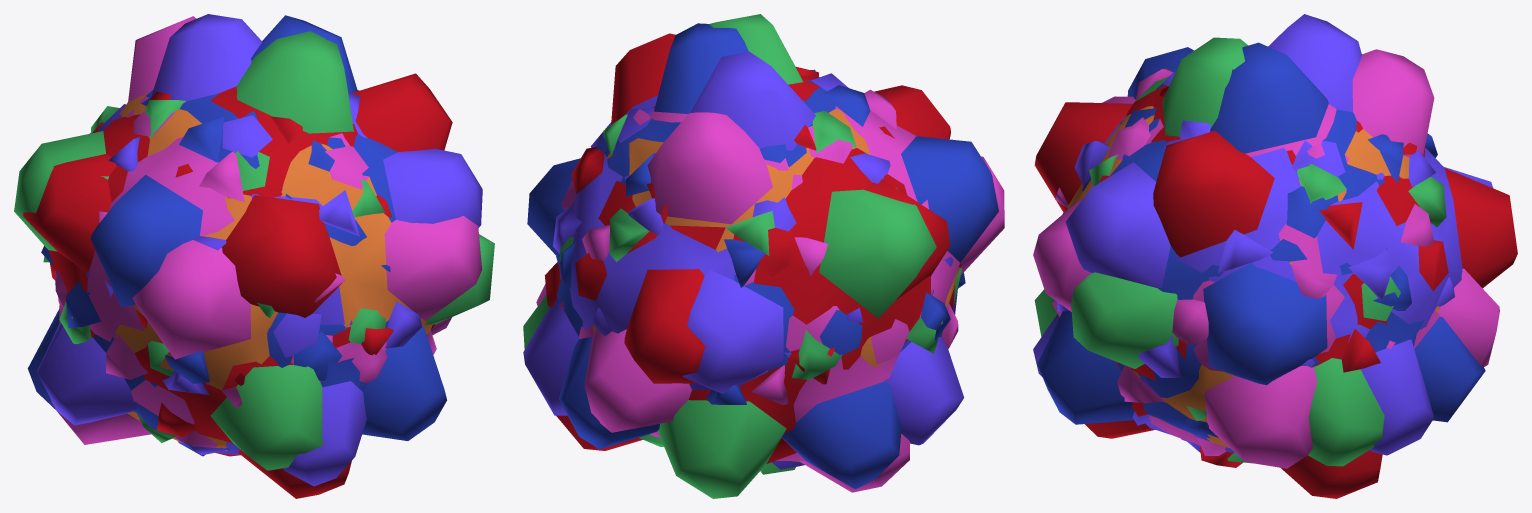
The model's file is Meteor balls.fbx.
3 renders of one model, left to right at view 1: azimuth 30°, elevation 25°; view 2: azimuth 150°, elevation 25°; view 3: azimuth 270°, elevation 25°, orthographic.
Parts seen in each view (by area): view 1: Icosphere.001, Icosphere, Icosphere.002, Icosphere.003, Icosphere.004; view 2: Icosphere.002, Icosphere.003, Icosphere, Icosphere.004, Icosphere.001; view 3: Icosphere.004, Icosphere.003, Icosphere, Icosphere.001, Icosphere.002.
Boxes of the visible parts, x1=… form: Icosphere.001: x1=51, y1=16, x2=482, y2=451; Icosphere: x1=37, y1=14, x2=482, y2=486; Icosphere.002: x1=14, y1=31, x2=494, y2=470; Icosphere.003: x1=27, y1=15, x2=446, y2=456; Icosphere.004: x1=23, y1=73, x2=452, y2=498; Icosphere.002: x1=523, y1=14, x2=961, y2=498; Icosphere.003: x1=527, y1=23, x2=998, y2=489; Icosphere: x1=523, y1=51, x2=964, y2=469; Icosphere.004: x1=544, y1=33, x2=960, y2=450; Icosphere.001: x1=536, y1=89, x2=1004, y2=492; Icosphere.004: x1=1034, y1=86, x2=1517, y2=498; Icosphere.003: x1=1037, y1=42, x2=1485, y2=445; Icosphere: x1=1033, y1=14, x2=1493, y2=458; Icosphere.001: x1=1033, y1=49, x2=1499, y2=468; Icosphere.002: x1=1034, y1=37, x2=1446, y2=466.
Bounding box in the file's own units: 0.4329 × 0.4076 × 0.4329.
